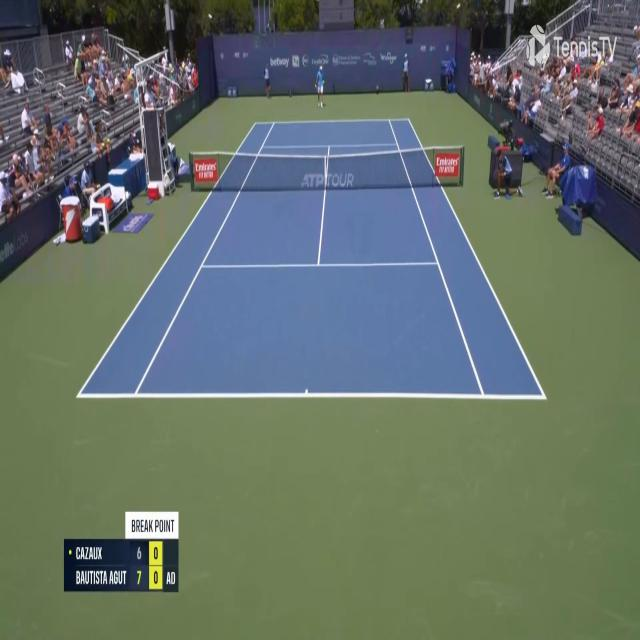tennis-player: (314, 63, 326, 108)
